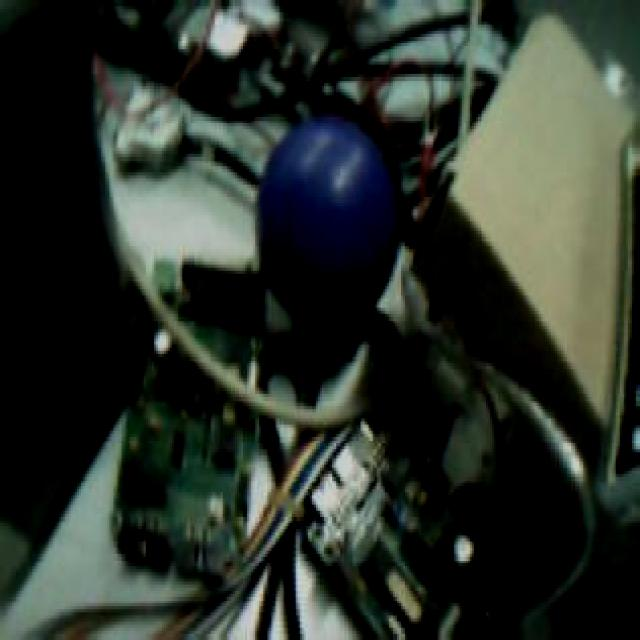BallPurple: (254, 116, 400, 330)
